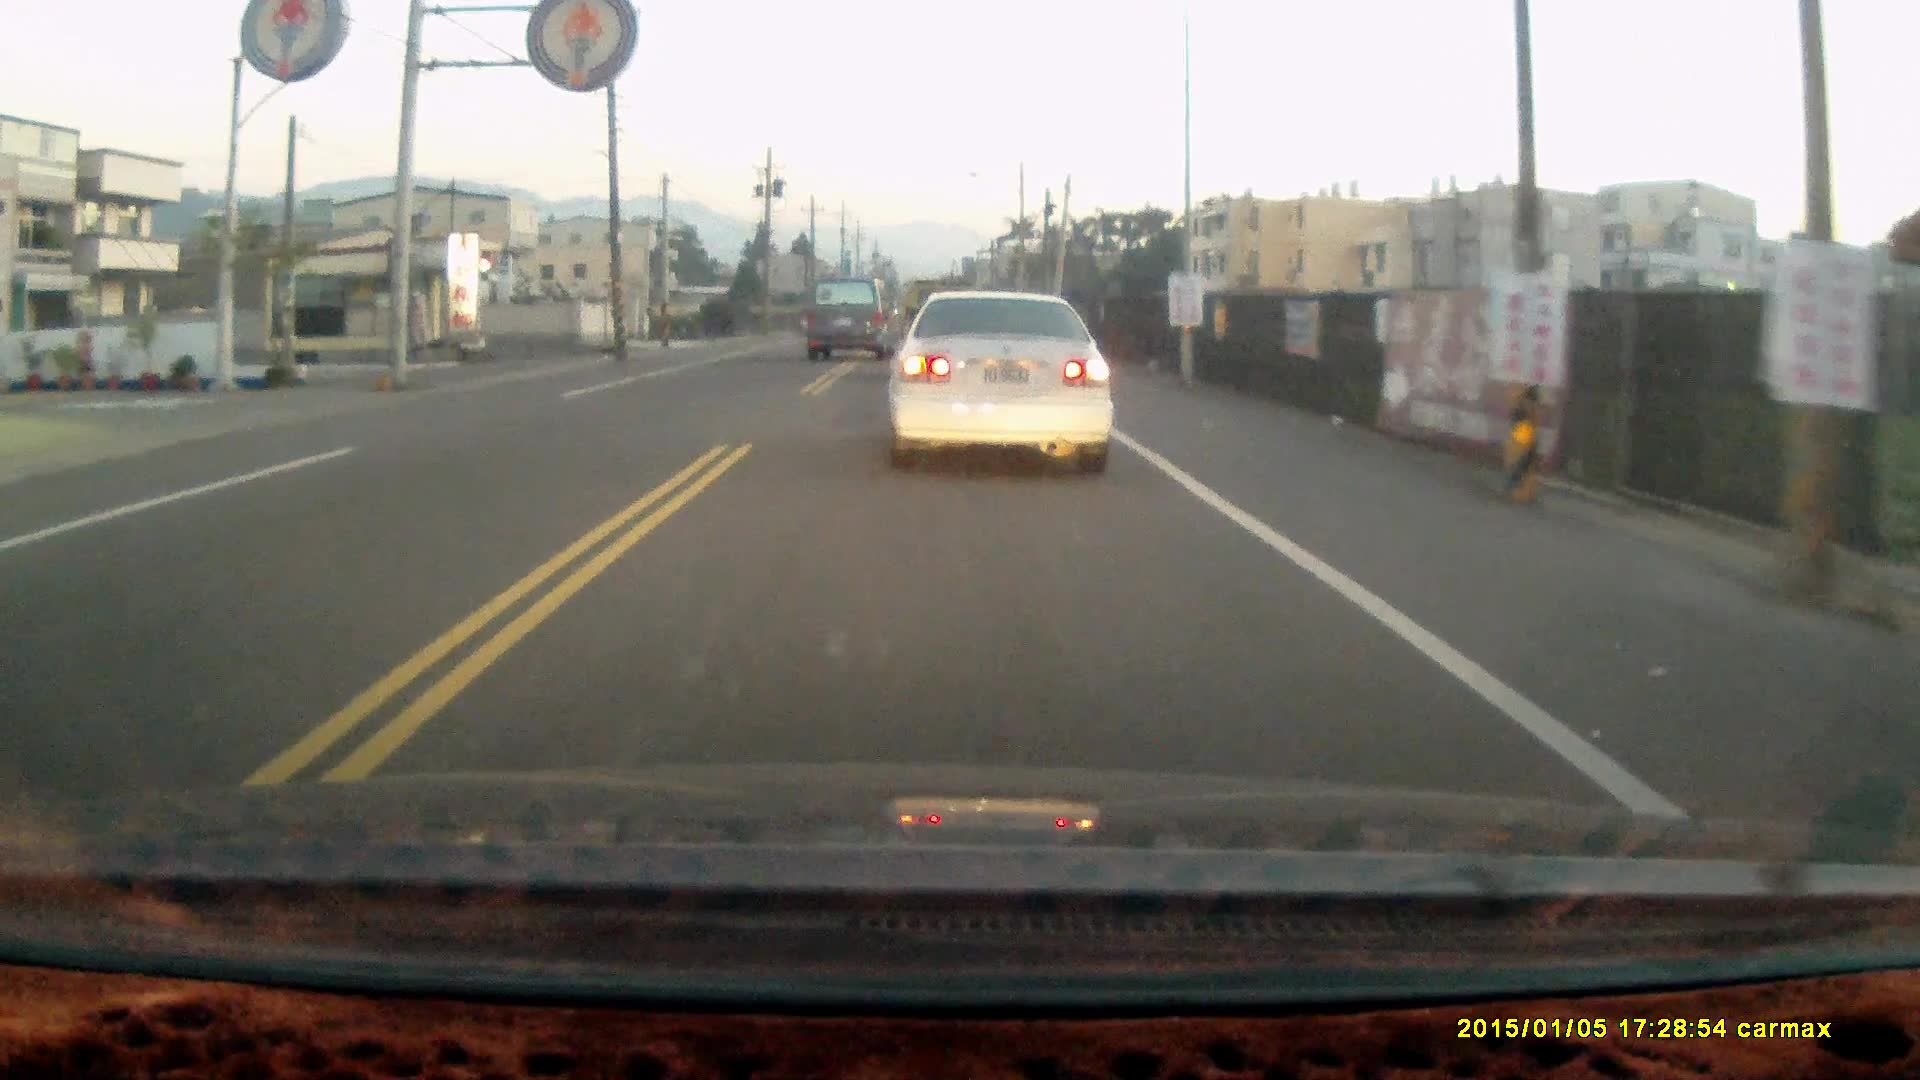vehicle: (884, 290, 1125, 481), (802, 273, 899, 364)
